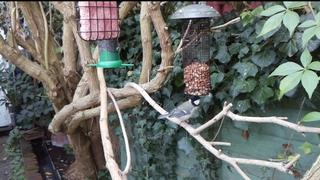great tit: (157, 95, 203, 129)
